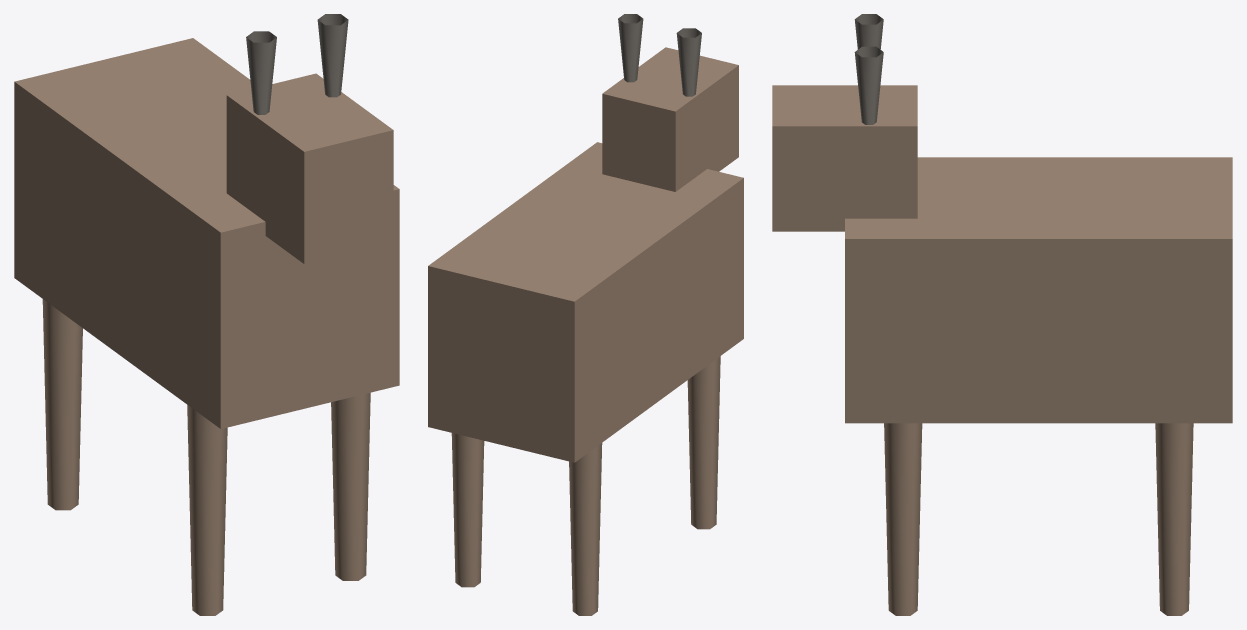
The model's file is goat.glb.
3 renders of one model, left to right at view 1: azimuth 30°, elevation 25°; view 2: azimuth 150°, elevation 25°; view 3: azimuth 270°, elevation 25°, orthographic. The views are drawn at different scales.
Visible parts, largest first — view 1: Body_Node, Head_Node, Leg_2_Node, Leg_0_Node, Leg_3_Node, Horn_L_Node, Horn_R_Node; view 2: Body_Node, Head_Node, Leg_0_Node, Leg_2_Node, Leg_1_Node, Horn_L_Node, Horn_R_Node; view 3: Body_Node, Head_Node, Leg_1_Node, Leg_3_Node, Horn_R_Node, Horn_L_Node.
Boxes of the visible parts, <box> form: Body_Node: <box>14,38,399,428</box>; Head_Node: <box>226,73,393,263</box>; Leg_2_Node: <box>187,405,227,615</box>; Leg_0_Node: <box>42,299,82,510</box>; Leg_3_Node: <box>331,392,370,580</box>; Horn_L_Node: <box>246,31,276,114</box>; Horn_R_Node: <box>317,14,348,97</box>; Body_Node: <box>428,142,743,462</box>; Head_Node: <box>602,47,738,191</box>; Leg_0_Node: <box>569,443,602,615</box>; Leg_2_Node: <box>687,356,720,529</box>; Leg_1_Node: <box>451,433,484,587</box>; Horn_L_Node: <box>676,28,701,96</box>; Horn_R_Node: <box>618,14,643,82</box>; Body_Node: <box>845,157,1232,423</box>; Head_Node: <box>772,85,917,231</box>; Leg_1_Node: <box>1155,423,1193,615</box>; Leg_3_Node: <box>884,423,922,615</box>; Horn_R_Node: <box>854,46,883,124</box>; Horn_L_Node: <box>854,14,883,49</box>.
Size of the model in its own units: 0.4 by 1.24 by 0.95.
